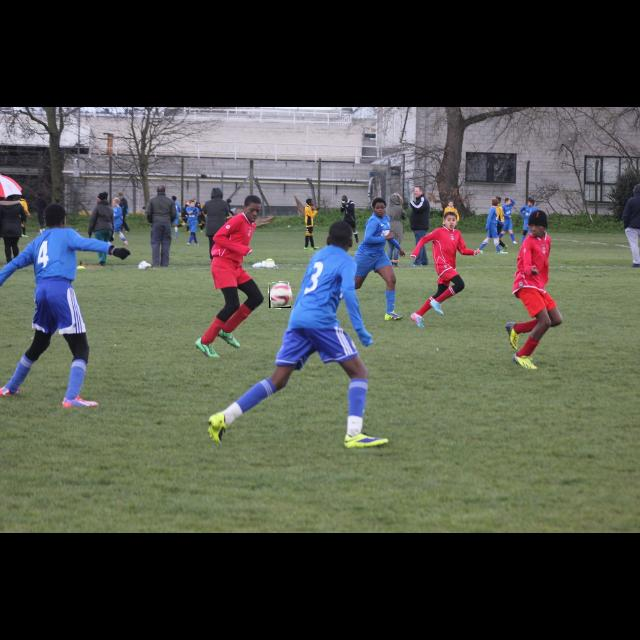Football: (269, 282, 291, 308)
